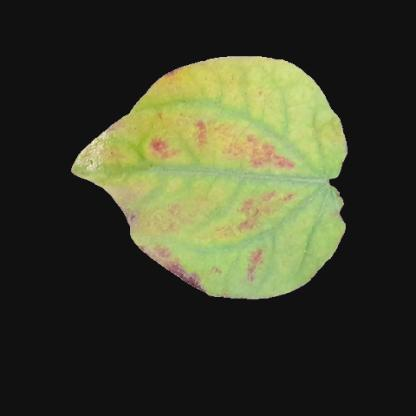curl_stage1: (231, 179, 327, 272), (168, 103, 290, 171), (205, 60, 309, 104), (106, 113, 163, 183), (182, 174, 228, 252), (294, 106, 338, 166)
